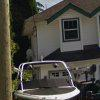Boat: (14, 58, 83, 100)
